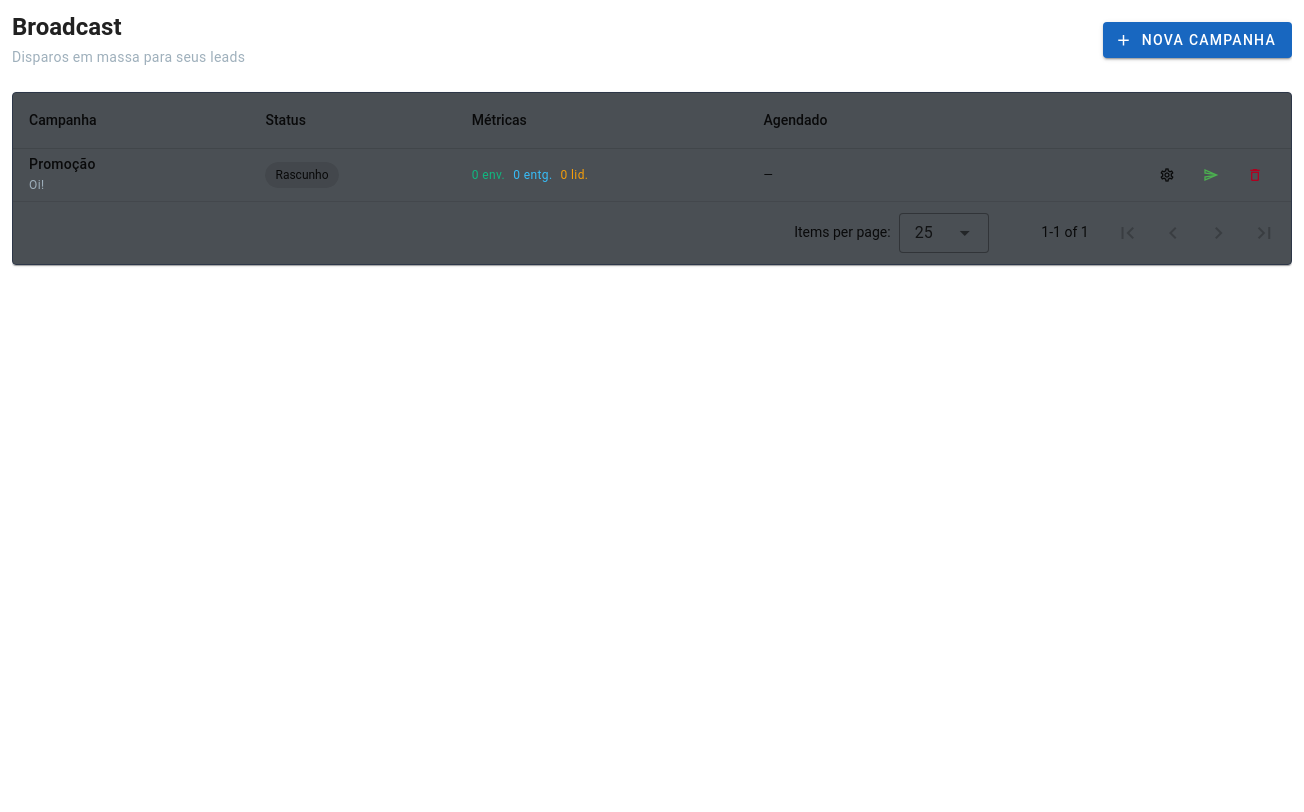
it: BroadcastView › abre o gerenciador de uma campanha ao clicar em "Gerenciar"
Click the button titled "Gerenciar" at (1167, 175), box [1147,155,1187,195]
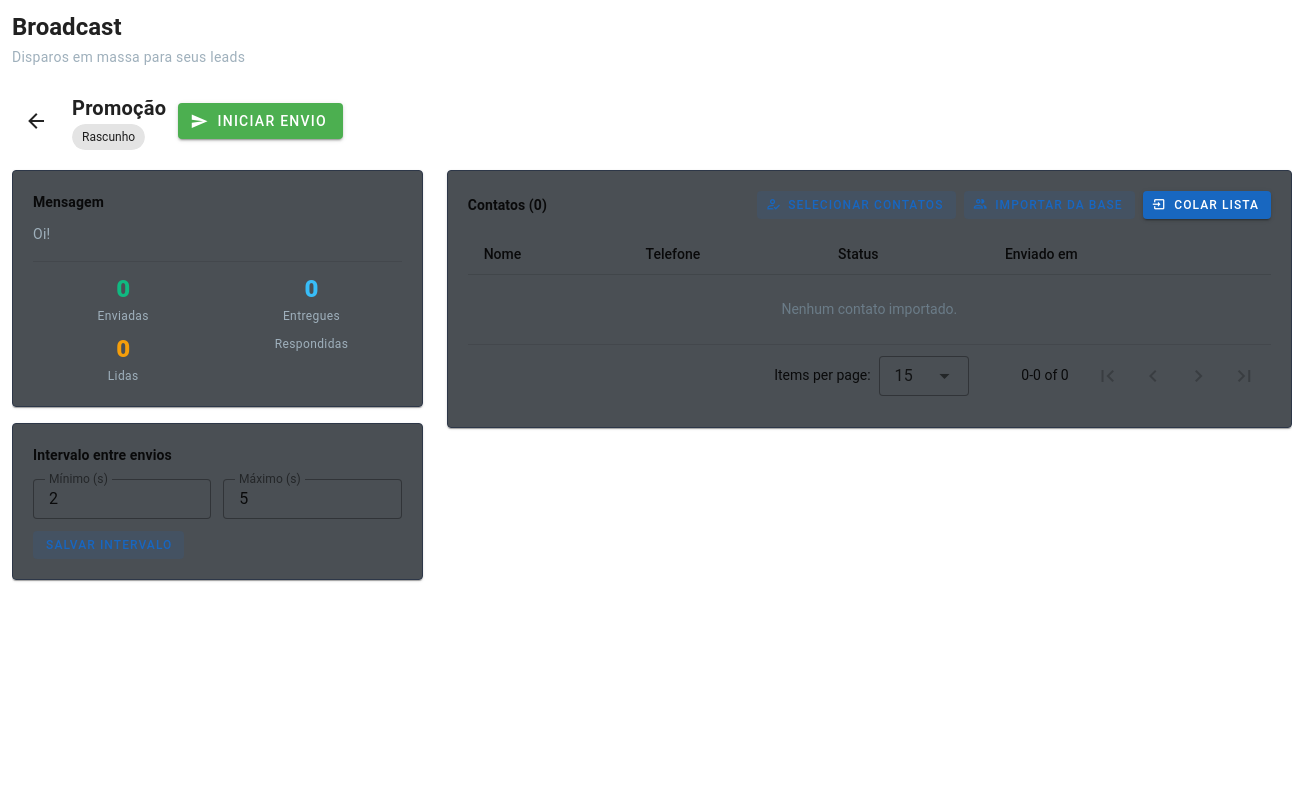
Expected: the text "Iniciar Envio" is shown, [216,113,327,129]
